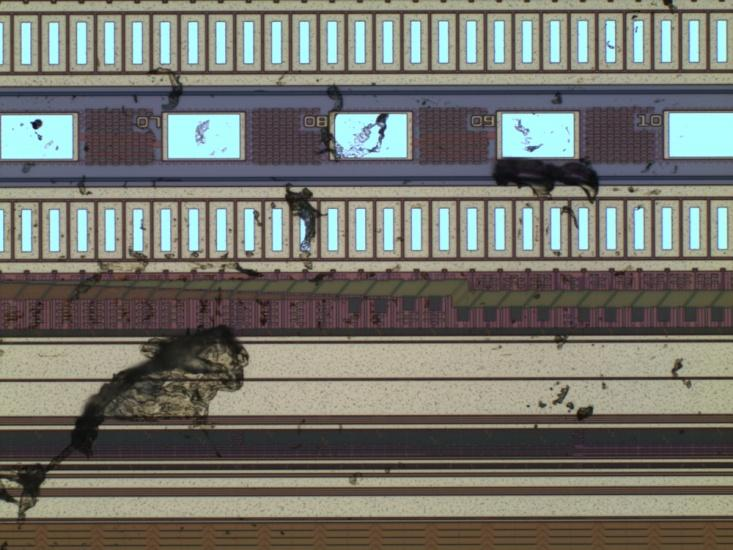PO CONTAMINATION: (1, 1, 694, 534)
